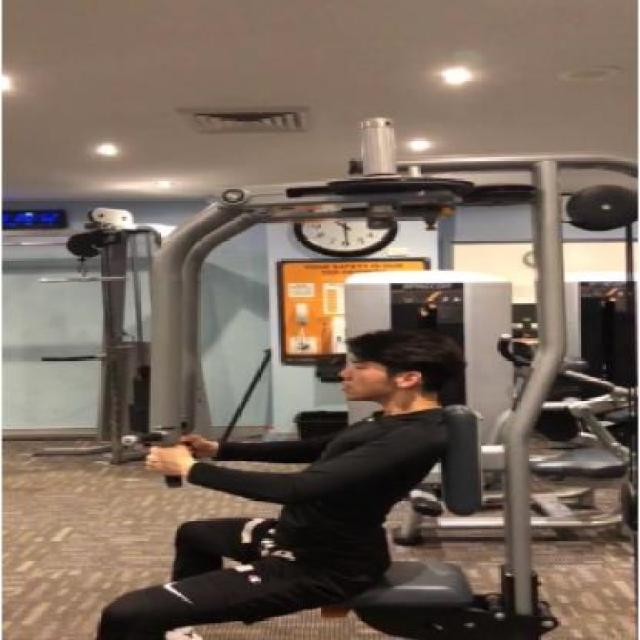chest fly machine: (26, 132, 640, 640)
